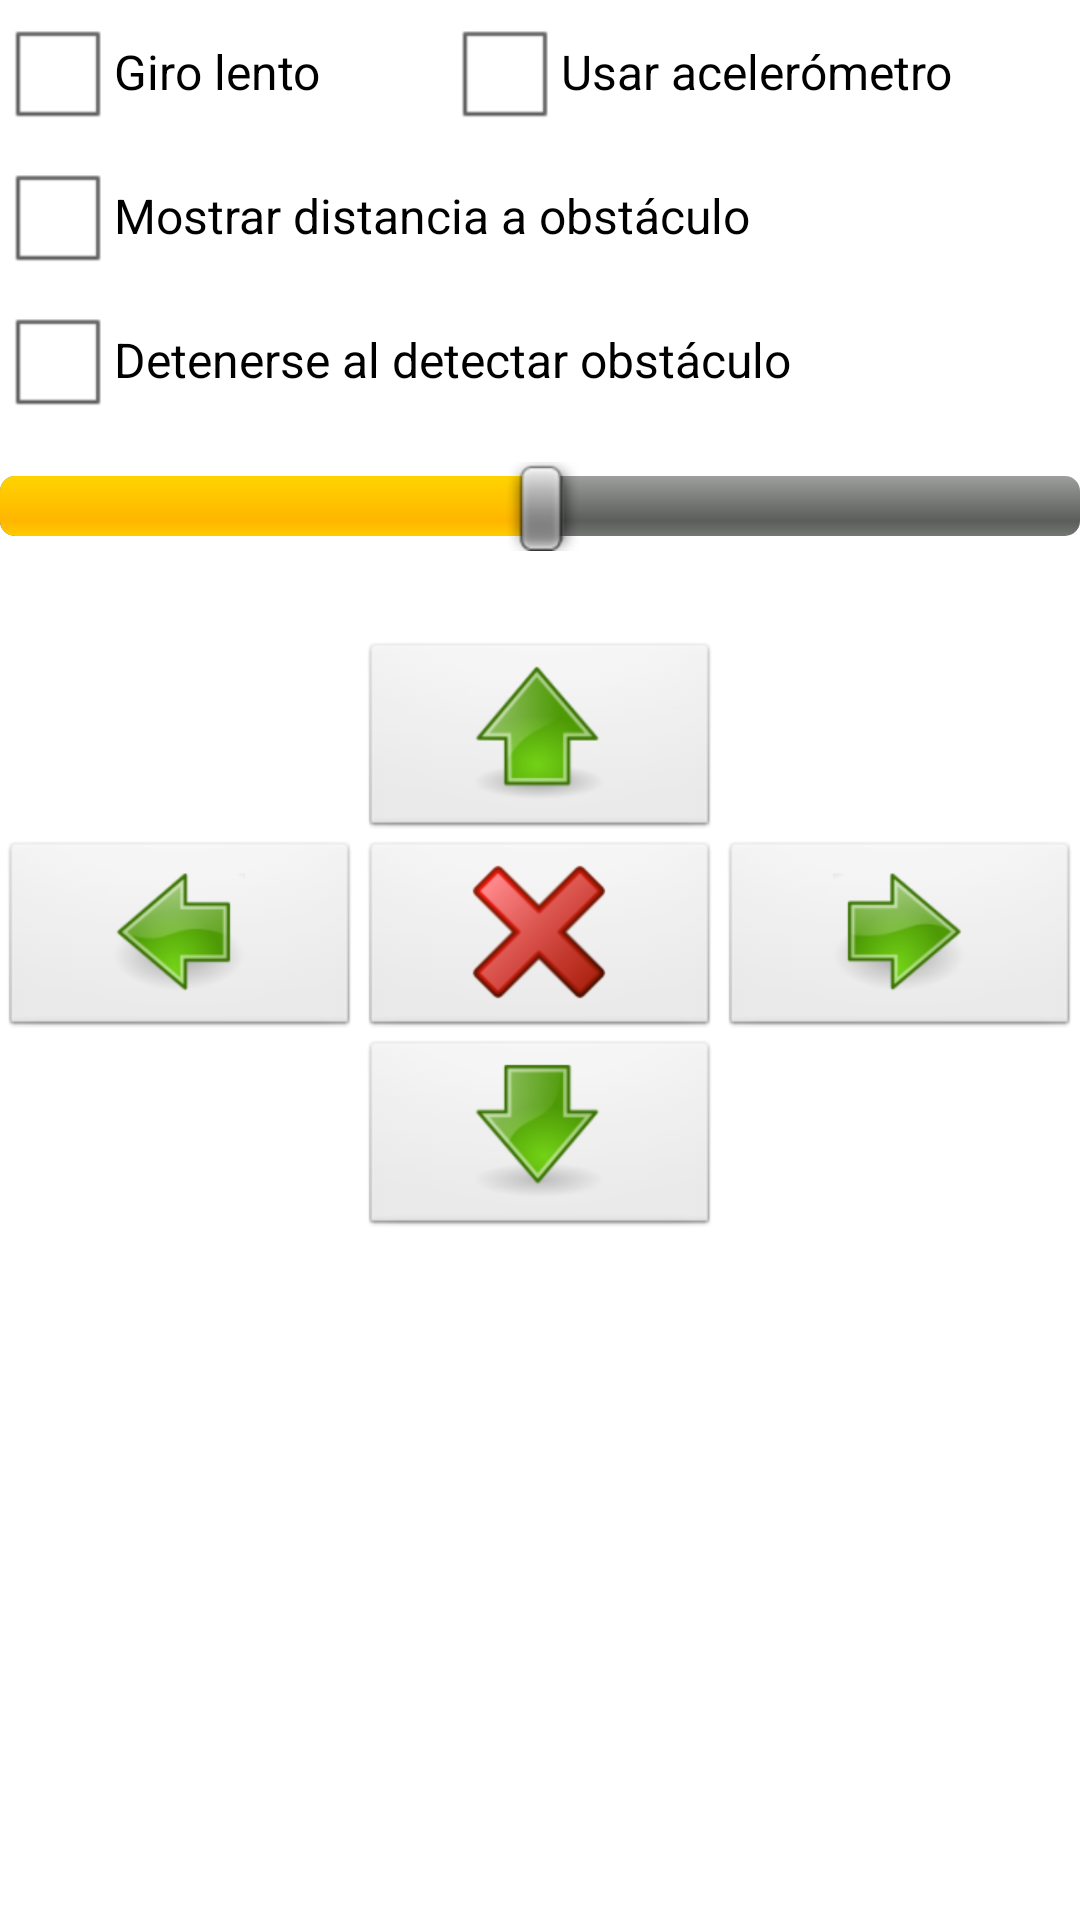

Named icons in this screenshot (1080*1920) and their centers, [x,y]:
Adelante: [539,735]
Atrás: [539,1133]
Derecha: [899,934]
Detener: [539,934]
Izquierda: [179,934]
